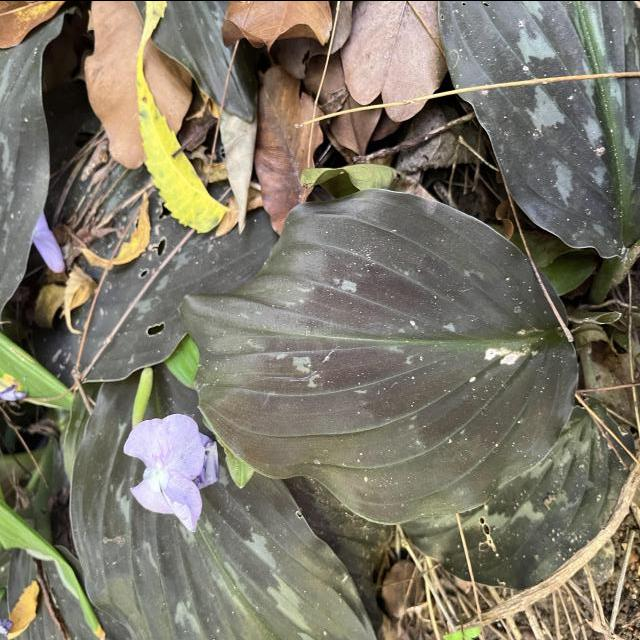Kaempferia galanga linn: (174, 185, 583, 529)
